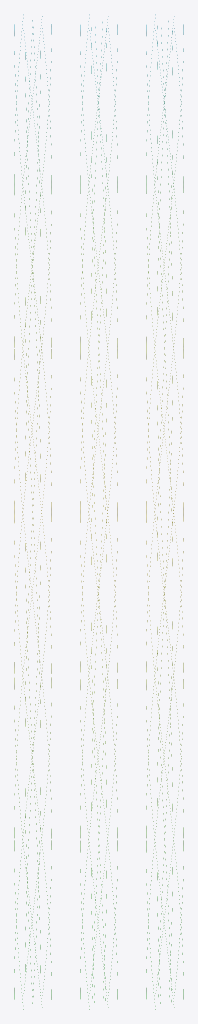
File: SM_DarklineForSpline_7.FBX
The picture shows the model from 3 angles, left to right: view 1: azimuth 90°, elevation 25°; view 2: azimuth 150°, elevation 25°; view 3: azimuth 330°, elevation 25°; orthographic projection.
Parts seen in each view (by area): view 1: SM_DarklineForSpline_7; view 2: SM_DarklineForSpline_7; view 3: SM_DarklineForSpline_7.
Part boxes in pixels (left/top/right/bottom): SM_DarklineForSpline_7: left=14, top=14, right=51, bottom=1009; SM_DarklineForSpline_7: left=80, top=14, right=117, bottom=1009; SM_DarklineForSpline_7: left=146, top=14, right=183, bottom=1009.
Size of the model in its own units: 7 by 7 by 200.
